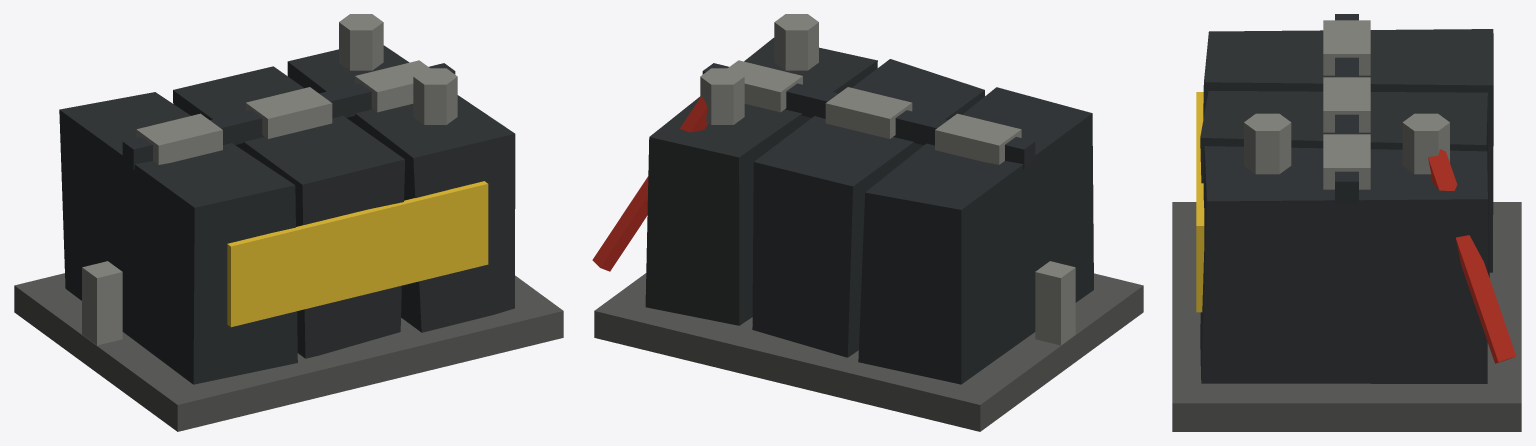
The model's file is util_battery.glb.
The picture shows the model from 3 angles, left to right: view 1: azimuth 30°, elevation 25°; view 2: azimuth 150°, elevation 25°; view 3: azimuth 270°, elevation 25°; orthographic projection. The views are drawn at different scales.
Visible parts, largest first — view 1: util_battery; view 2: util_battery; view 3: util_battery.
Boxes of the visible parts, box(x1,y1,x2,y2) form: util_battery: box(14, 14, 563, 431); util_battery: box(592, 14, 1143, 431); util_battery: box(1172, 14, 1521, 431).
Bounding box in the file's own units: 0.6218 × 0.37 × 0.44.
